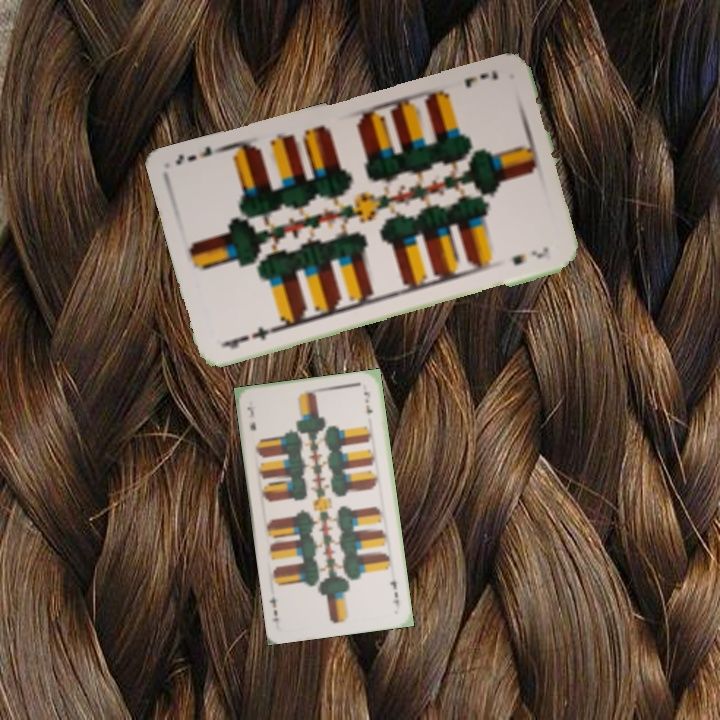E7: (219, 323, 278, 352), (461, 66, 501, 90), (386, 576, 402, 611), (243, 402, 258, 433)
